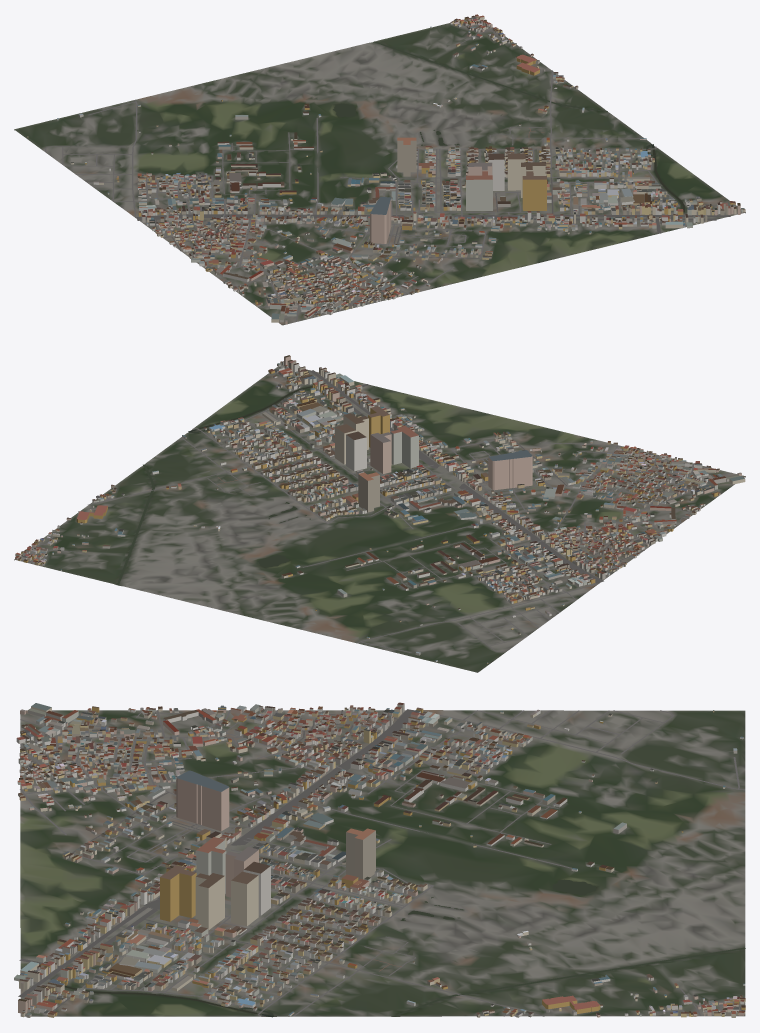
The picture shows the model from 3 angles, top to bottom: view 1: azimuth 30°, elevation 25°; view 2: azimuth 150°, elevation 25°; view 3: azimuth 270°, elevation 25°; orthographic projection. The views are drawn at different scales.
Parts seen in each view (by area): view 1: ground, buildings, roads, water; view 2: ground, buildings, roads, water; view 3: ground, buildings, roads, water.
Part boxes in pixels (box(x1,y1,x2,y2)): ground: box(14, 18, 745, 325); buildings: box(27, 14, 745, 324); roads: box(45, 20, 736, 321); water: box(333, 41, 684, 212); ground: box(14, 365, 745, 672); buildings: box(15, 355, 745, 663); roads: box(20, 370, 731, 652); water: box(116, 386, 312, 585); ground: box(20, 710, 745, 1016); buildings: box(14, 702, 745, 1017); roads: box(18, 709, 745, 1016); water: box(64, 879, 745, 1017).
Bounding box in the file's own units: 1421 × 95.58 × 1416.
